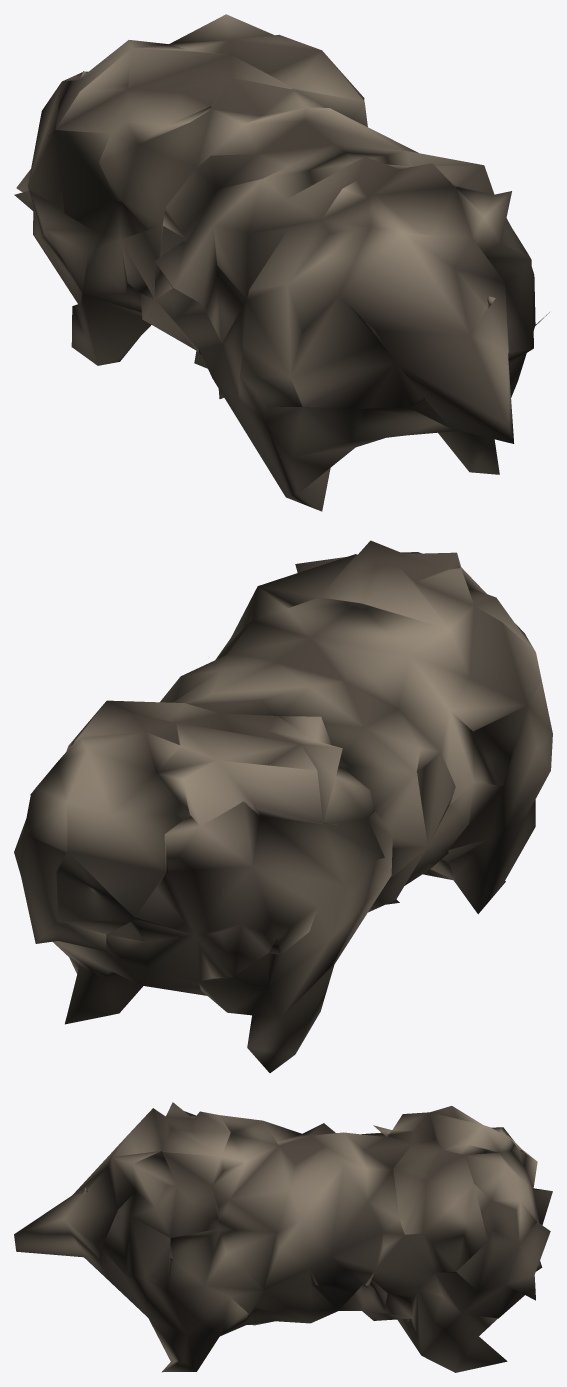
File: igel.glb
3 renders of one model, top to bottom at view 1: azimuth 30°, elevation 25°; view 2: azimuth 150°, elevation 25°; view 3: azimuth 270°, elevation 25°, orthographic. The views are drawn at different scales.
Visible parts, largest first — view 1: lack; view 2: lack; view 3: lack.
Part boxes in pixels (<box>): lack: <box>14,14,549,511</box>; lack: <box>14,540,552,1072</box>; lack: <box>14,1102,552,1372</box>.
Size of the model in its own units: 0.154 by 0.1499 by 0.3262.
